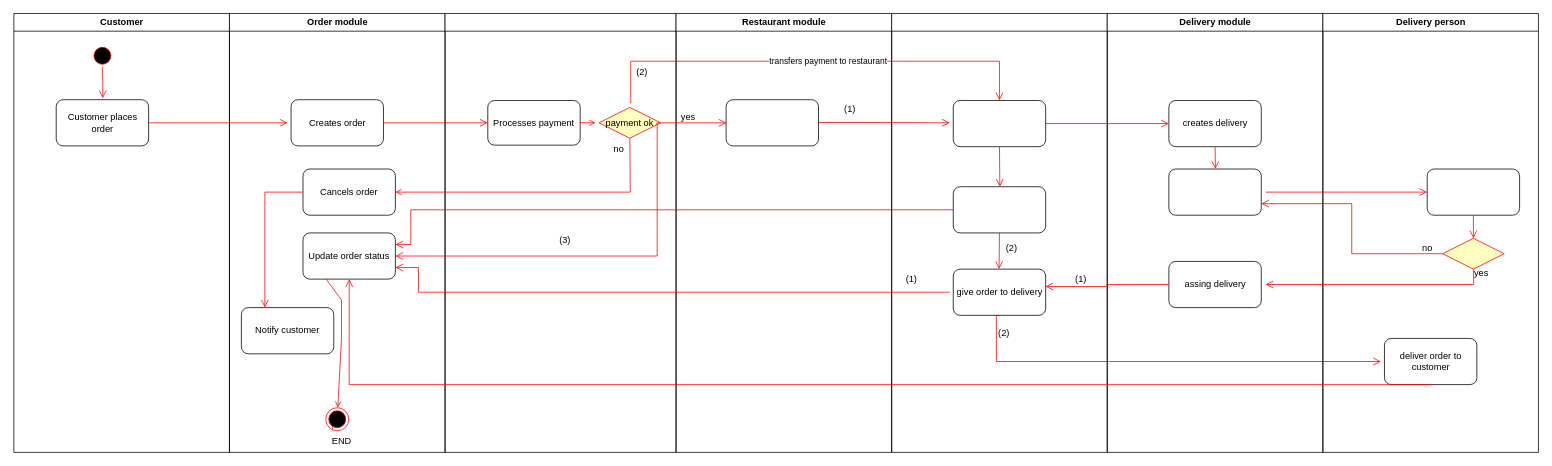
Image size: 1552x466. Some labels were removed from this diagram. Each missing label, with the box of its shape:
accept: (1442, 238, 1504, 269)
accepts order: (952, 100, 1046, 147)
notify delivery personel of delivery: (1168, 168, 1261, 215)
Payment processor: (444, 13, 676, 452)
prepare order: (952, 186, 1046, 233)
recive delivery info: (1426, 168, 1520, 215)
Restaurant: (891, 13, 1107, 452)
transfers order to restaurant: (725, 99, 819, 146)
